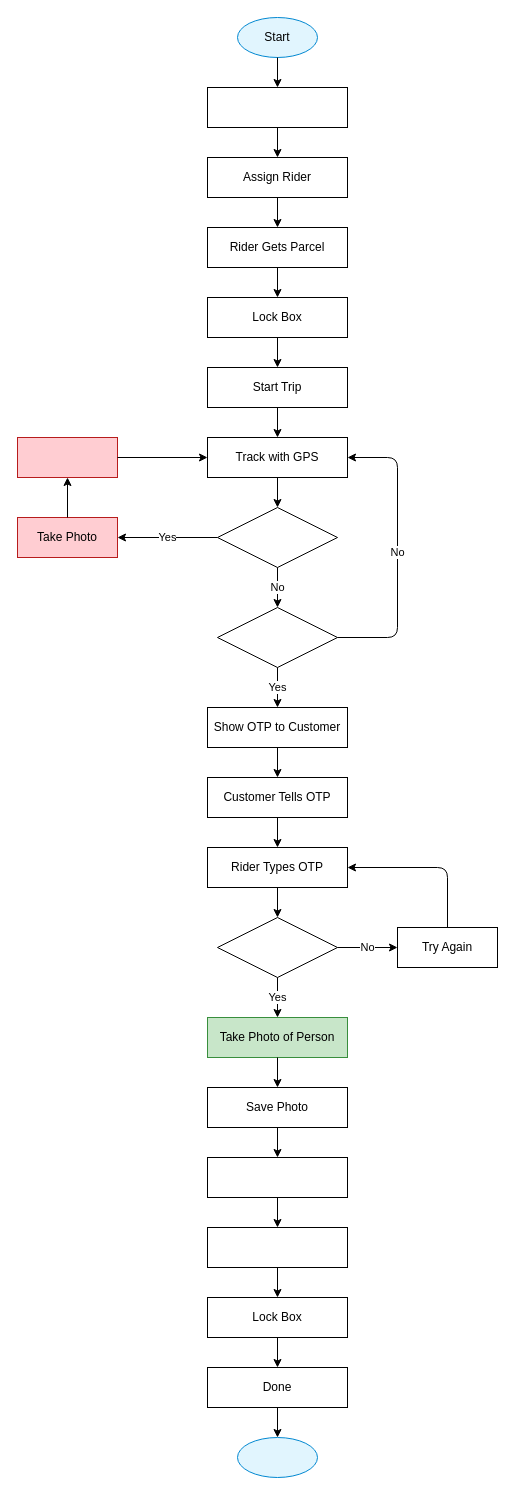
Some shapes in this 515 by 1495 pixel diagram are drawn without their labels. The shapes that lost their labels are listed below. From the top down, each one's centre as x and y in pixels, then its label:
At pixel 277 107: "Customer Orders".
At pixel 67 457: "Alert Customer".
At pixel 277 537: "Tampering?".
At pixel 277 637: "Arrived?".
At pixel 277 947: "Correct?".
At pixel 277 1177: "Unlock Box".
At pixel 277 1247: "Give Parcel".
At pixel 277 1457: "End".
